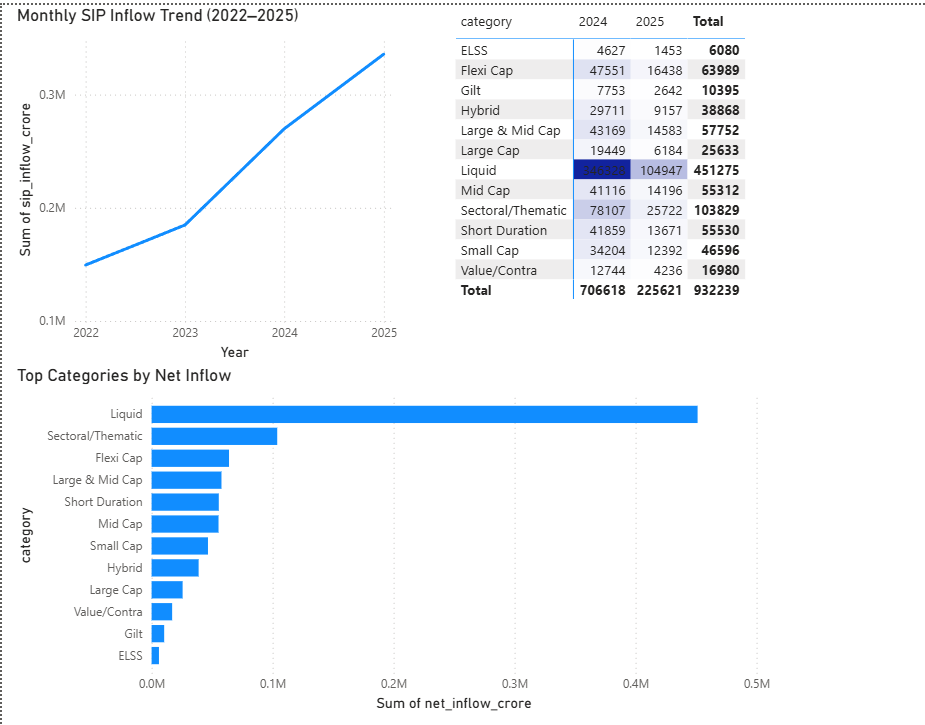

The page's visual inventory and layout, read from the dashboard file:
{"tool":"powerbi","page":{"name":"SIP & Market Trends","canvas":[1280,720],"ordinal":3},"visuals":[{"type":"lineChart","title":"Monthly SIP Inflow Trend (2022–2025)","fields":{"Category":["04_monthly_sip_inflows.month.Variation.Date Hierarchy.Year","04_monthly_sip_inflows.month.Variation.Date Hierarchy.Quarter","04_monthly_sip_inflows.month.Variation.Date Hierarchy.Month","04_monthly_sip_inflows.month.Variation.Date Hierarchy.Day"],"Y":["Sum(04_monthly_sip_inflows.sip_inflow_crore)"]},"box":[10,0,390,360],"z":0},{"type":"clusteredBarChart","title":"Top Categories by Net Inflow","fields":{"Category":["05_category_inflows.category"],"Y":["Sum(05_category_inflows.net_inflow_crore)"]},"box":[10,360,280,280],"z":1},{"type":"pivotTable","fields":{"Rows":["05_category_inflows.category"],"Columns":["05_category_inflows.month.Variation.Date Hierarchy.Year","05_category_inflows.month.Variation.Date Hierarchy.Quarter","05_category_inflows.month.Variation.Date Hierarchy.Month","05_category_inflows.month.Variation.Date Hierarchy.Day"],"Values":["Sum(05_category_inflows.net_inflow_crore)"]},"box":[400,0,334,280],"z":2}]}

Visuals, with their boxes on the page's 1280x720 design canvas (x1, y1, x2, y2). These are canvas units, not pixel positions in the 925x725 screenshot, which may show the page scaled, cropped or inside an application window:
"Monthly SIP Inflow Trend (2022–2025)" lineChart: detection(10, 0, 400, 360)
"Top Categories by Net Inflow" clusteredBarChart: detection(10, 360, 290, 640)
pivotTable - 05_category_inflows.category x 05_category_inflows.month.Variation.Date Hierarchy.Year: detection(400, 0, 734, 280)
